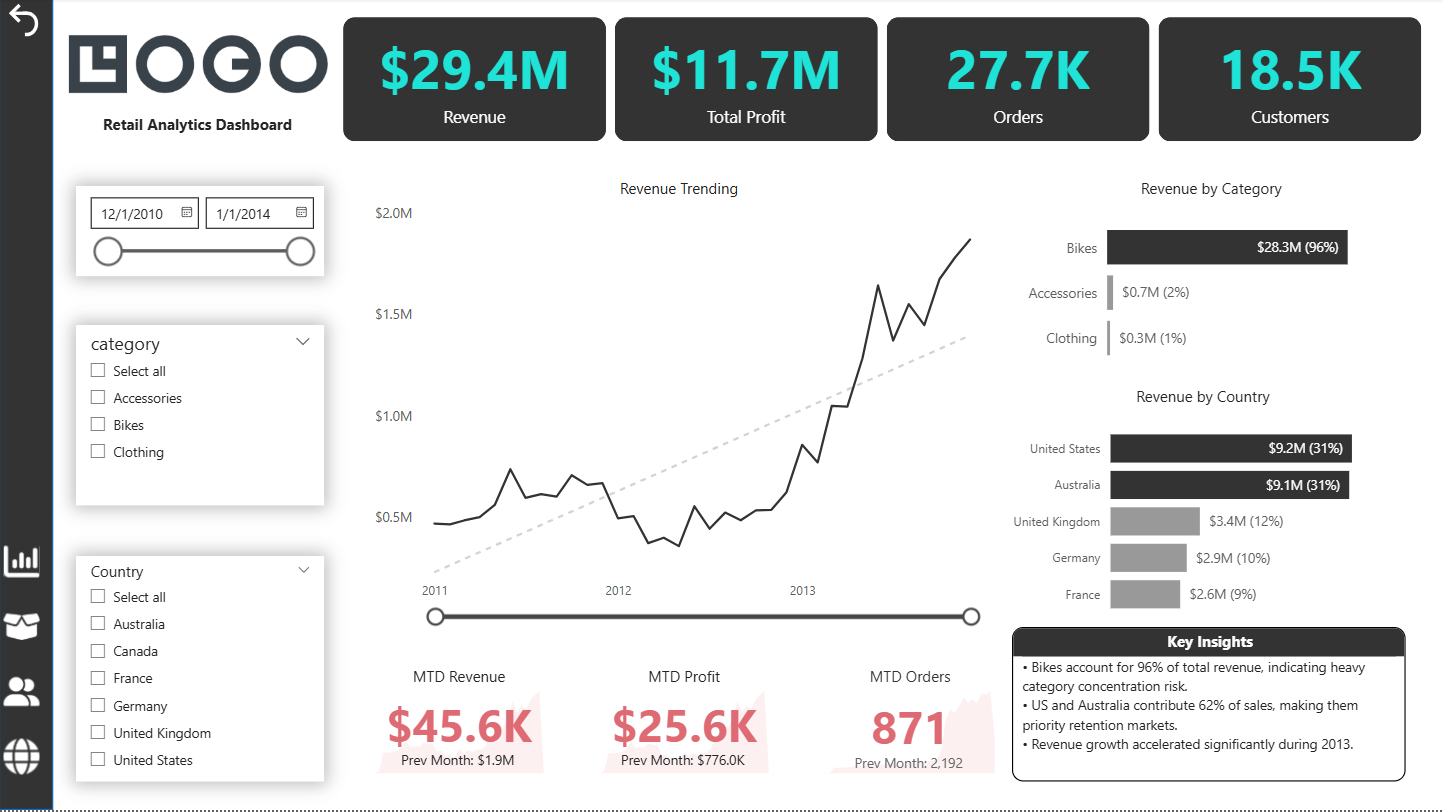

This screenshot's page, from the dashboard's own definition file:
{"tool":"powerbi","page":{"name":"Executive Dashboard","canvas":[1280,720],"ordinal":0},"visuals":[{"type":"cardVisual","fields":{"Data":["Measure Table.Total Revenue","Measure Table.Total Profit","Measure Table.Total Orders","Measure Table.Total Customers"]},"box":[288,0,992,144],"z":0},{"type":"shape","box":[0,0,48,720],"z":1000},{"type":"actionButton","box":[0,480,48.2,40],"z":1000,"group":"g1"},{"type":"lineChart","title":"Revenue Trending","fields":{"Category":["dim_calendar.Date Hierarchy.Start of Year","dim_calendar.Date Hierarchy.Start of Quarter","dim_calendar.Date Hierarchy.Start of Month","dim_calendar.Date Hierarchy.Start of Week"],"Y":["Measure Table.Total Revenue"]},"box":[328,160,550,400],"z":2000},{"type":"clusteredBarChart","title":"Revenue by Category","fields":{"Category":["dim_products.category"],"Y":["Measure Table.Total Revenue"]},"box":[888,160,360,180],"z":3000},{"type":"clusteredBarChart","title":"Revenue by Country","fields":{"Category":["dim_customers.country"],"Y":["Measure Table.Total Revenue"]},"box":[888,344,360,216],"z":4000},{"type":"actionButton","box":[0.1,537.4,48,40.3],"z":4000,"group":"g1"},{"type":"kpi","title":"MTD Revenue","fields":{"Goal":["Measure Table.Previous Month Revenue"],"Indicator":["Measure Table.Total Revenue"],"TrendLine":["dim_calendar.Start of Month"]},"box":[328,592,160,100],"z":5000},{"type":"actionButton","box":[0,595.2,48.2,40],"z":5000,"group":"g1"},{"type":"kpi","title":"MTD Orders","fields":{"Goal":["Measure Table.Previous Month Orders"],"Indicator":["Measure Table.Total Orders"],"TrendLine":["dim_calendar.Date Hierarchy.Start of Month"]},"box":[728,592,160,100],"z":6000},{"type":"textbox","box":[55.9,98.8,240.4,28.9],"z":7000},{"type":"textbox","title":"Key Insights","box":[898.2,557.7,349.4,137.4],"z":8000},{"type":"slicer","fields":{"Values":["dim_calendar.Start of Month"]},"box":[67.8,166.3,220,80],"z":9000},{"type":"slicer","fields":{"Values":["dim_products.category"]},"box":[67.8,290.3,220,160],"z":10000},{"type":"slicer","title":"Country","fields":{"Values":["dim_customers.country"]},"box":[67.8,494.3,220,200],"z":11000},{"type":"kpi","title":"MTD Profit","fields":{"Goal":["Measure Table.Previous Month Profit"],"Indicator":["Measure Table.Total Profit"],"TrendLine":["dim_calendar.Start of Month"]},"box":[528,592,160,100],"z":12000},{"type":"actionButton","box":[2.4,0,45.8,38.8],"z":13000},{"type":"group","id":"g1","title":"Navigation Buttons","box":[0,480,48.2,212.5],"z":14000},{"type":"image","box":[55.9,19,240.4,79.8],"z":15000},{"type":"actionButton","box":[0.1,652.6,47.9,39.9],"z":17000,"group":"g1"}]}

Visuals, with their boxes on the page's 1280x720 design canvas (x1, y1, x2, y2). These are canvas units, not pixel positions in the 1443x812 screenshot, which may show the page scaled, cropped or inside an application window:
cardVisual - Measure Table.Total Revenue x Measure Table.Total Profit: rect(288, 0, 1280, 144)
shape: rect(0, 0, 48, 720)
actionButton: rect(0, 480, 48, 520)
"Revenue Trending" lineChart: rect(328, 160, 878, 560)
"Revenue by Category" clusteredBarChart: rect(888, 160, 1248, 340)
"Revenue by Country" clusteredBarChart: rect(888, 344, 1248, 560)
actionButton: rect(0, 537, 48, 578)
"MTD Revenue" kpi: rect(328, 592, 488, 692)
actionButton: rect(0, 595, 48, 635)
"MTD Orders" kpi: rect(728, 592, 888, 692)
textbox: rect(56, 99, 296, 128)
"Key Insights" textbox: rect(898, 558, 1248, 695)
slicer - dim_calendar.Start of Month: rect(68, 166, 288, 246)
slicer - dim_products.category: rect(68, 290, 288, 450)
"Country" slicer: rect(68, 494, 288, 694)
"MTD Profit" kpi: rect(528, 592, 688, 692)
actionButton: rect(2, 0, 48, 39)
"Navigation Buttons" group: rect(0, 480, 48, 692)
image: rect(56, 19, 296, 99)
actionButton: rect(0, 653, 48, 692)
